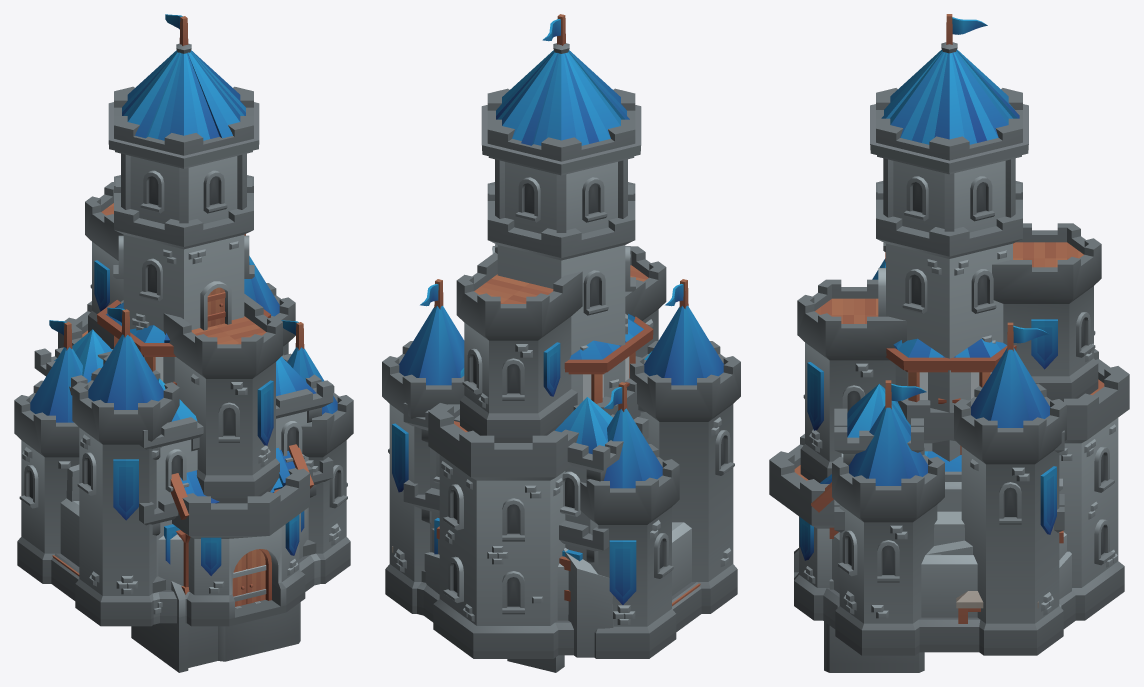
Rendered from peak.glb.
3 renders of one model, left to right at view 1: azimuth 30°, elevation 25°; view 2: azimuth 150°, elevation 25°; view 3: azimuth 270°, elevation 25°, orthographic. The views are drawn at different scales.
Visible parts, largest first — view 1: building_castle_blue, building_barracks_blue, building_watermill_blue, building_tower_A_top_blue; view 2: building_castle_blue, building_barracks_blue, building_mine_blue, building_tower_A_top_blue, building_tower_A_blue, building_watermill_blue; view 3: building_castle_blue, building_barracks_blue, building_tower_A_top_blue, building_watermill_blue, building_mine_blue, building_tower_A_blue, building_market_blue.
Boxes of the visible parts, x1=… form: building_castle_blue: x1=14, y1=14, x2=353, y2=626; building_barracks_blue: x1=34, y1=329, x2=333, y2=624; building_watermill_blue: x1=131, y1=444, x2=313, y2=672; building_tower_A_top_blue: x1=97, y1=300, x2=270, y2=385; building_castle_blue: x1=382, y1=14, x2=740, y2=658; building_barracks_blue: x1=403, y1=351, x2=651, y2=615; building_mine_blue: x1=424, y1=548, x2=613, y2=657; building_tower_A_top_blue: x1=564, y1=313, x2=653, y2=403; building_tower_A_blue: x1=597, y1=378, x2=640, y2=419; building_watermill_blue: x1=507, y1=655, x2=564, y2=672; building_castle_blue: x1=769, y1=14, x2=1129, y2=655; building_barracks_blue: x1=834, y1=384, x2=1064, y2=607; building_tower_A_top_blue: x1=886, y1=338, x2=1016, y2=403; building_watermill_blue: x1=811, y1=474, x2=924, y2=672; building_mine_blue: x1=926, y1=511, x2=1071, y2=599; building_tower_A_blue: x1=897, y1=398, x2=955, y2=451; building_market_blue: x1=956, y1=530, x2=1063, y2=623.
Size of the model in its own units: 1.98 by 4.33 by 2.26.
Materials: 1 (1 with a texture image).
